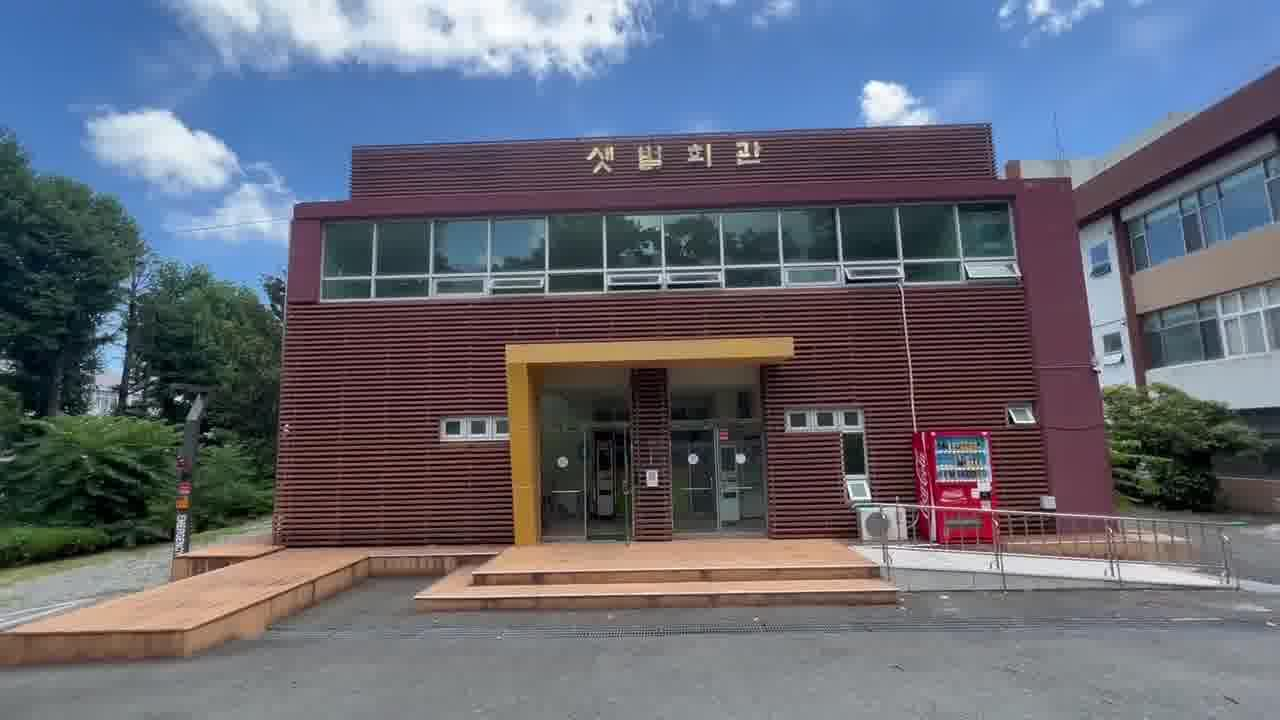building: (272, 123, 1117, 534)
